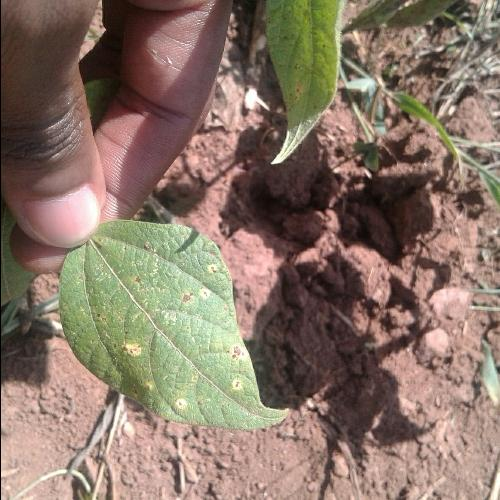hawar: (110, 232, 157, 309), (173, 262, 218, 314), (220, 344, 243, 372)
